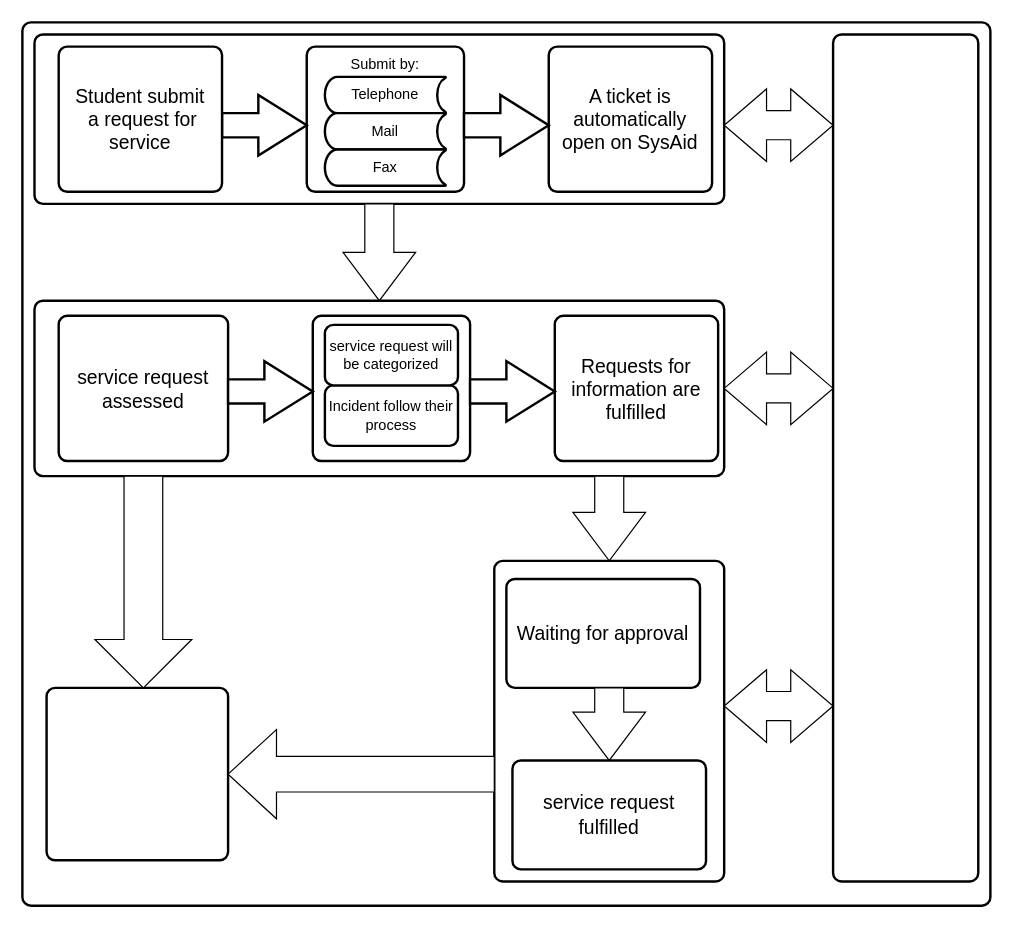
Some shapes in this 1012 by 927 pixel diagram are drawn without their labels. The shapes that lost their labels are listed below. From the top down, each one's centre as x and y in pixels, then its label:
At [905,457]: "Service request progression monitored, tracked and communicated".
At [137,773]: "service request closed".
